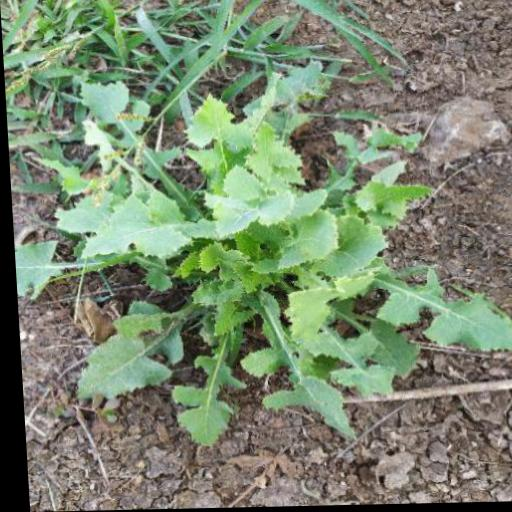weed: (1, 21, 512, 496)
